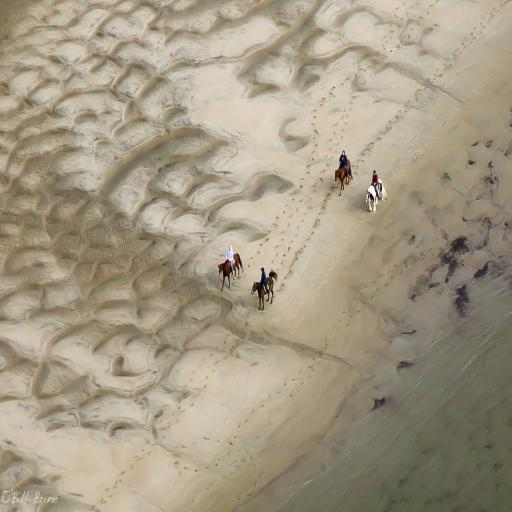horse: (250, 267, 279, 312), (218, 252, 244, 292), (365, 176, 387, 212), (335, 160, 352, 198)
